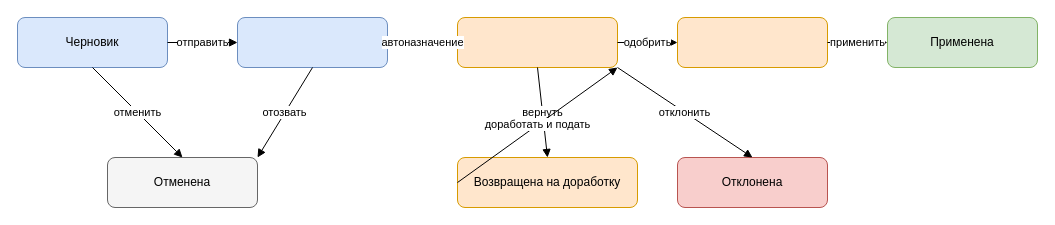
Some shapes in this 1055 by 225 pixel diagram are drawn without their labels. Each missing label, with the centre of its shape:
На рассмотрении: the point at 537,42
Одобрена: the point at 752,42
Отправлена: the point at 312,42
